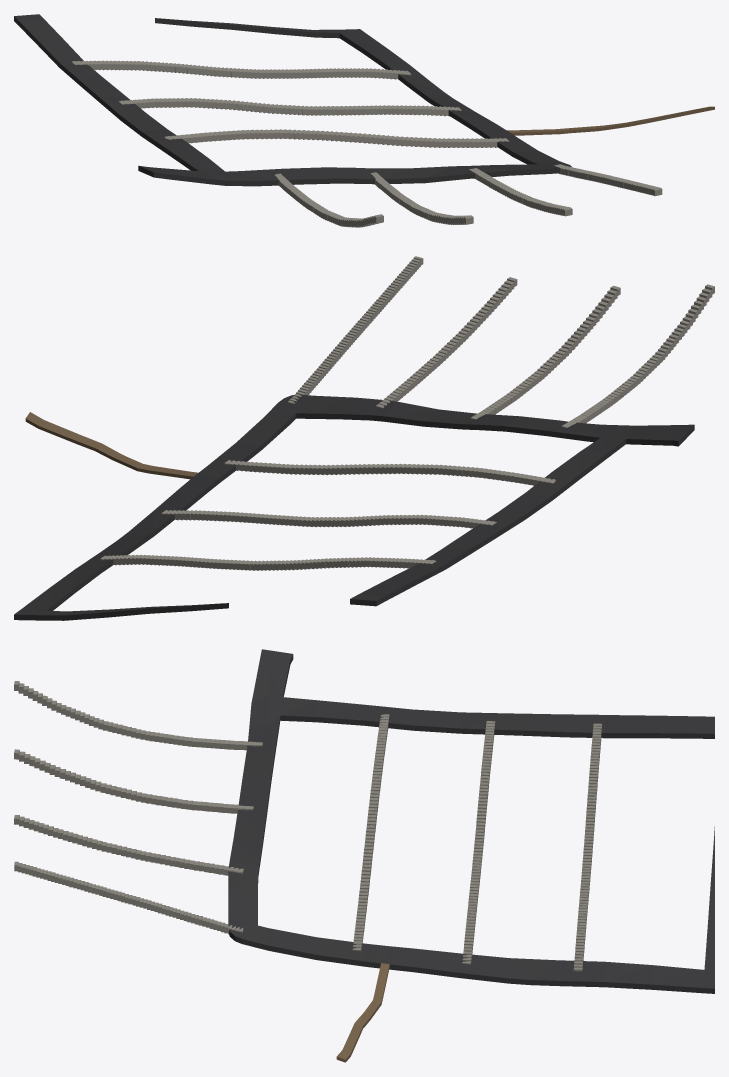
3 views of the same model, one above another, from view 1: azimuth 30°, elevation 25°; view 2: azimuth 150°, elevation 25°; view 3: azimuth 270°, elevation 25° (orthographic). The views are drawn at different scales.
Bounding box in the file's own units: 147 × 34.5 × 146.
